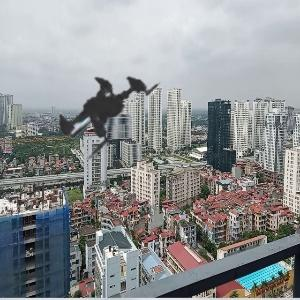drone: (3, 10, 192, 199)
